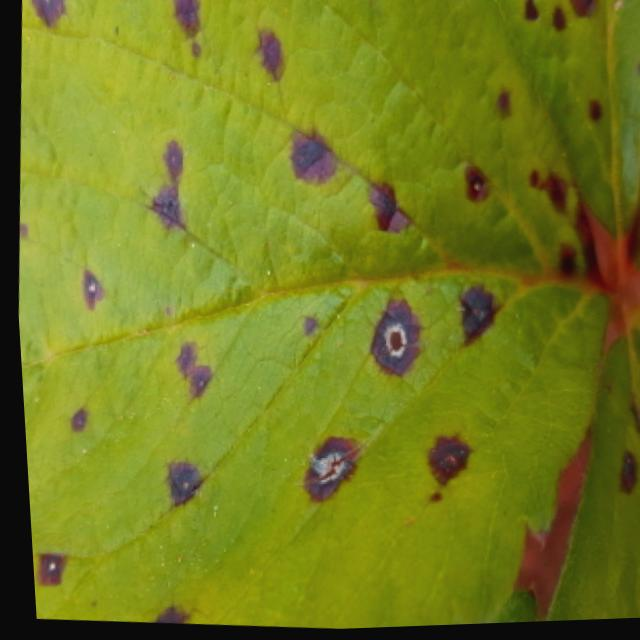Leaf Spot: (14, 0, 610, 631), (481, 0, 640, 277), (537, 304, 640, 625)
